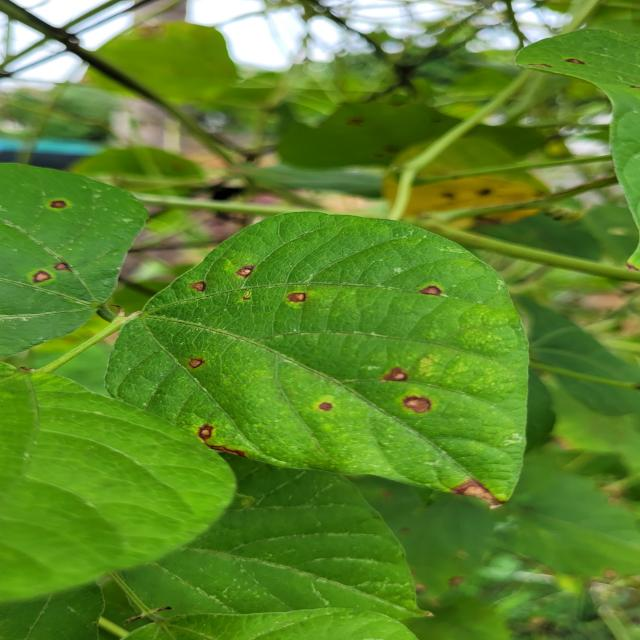Dolicos bean_cercospora leaf spot: (102, 210, 535, 509), (0, 140, 130, 363)
Dolicos bean_healthy: (0, 351, 260, 598), (100, 446, 440, 630)
